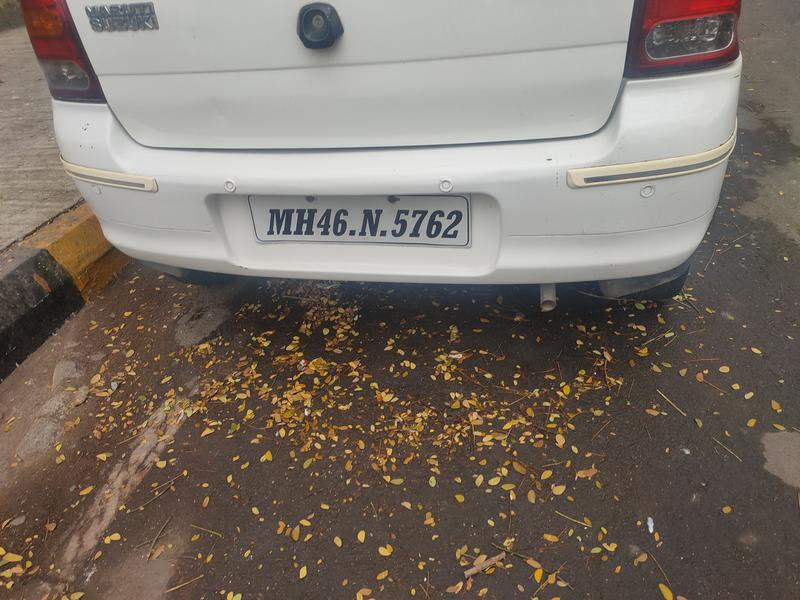license_plate: (238, 183, 479, 264)
